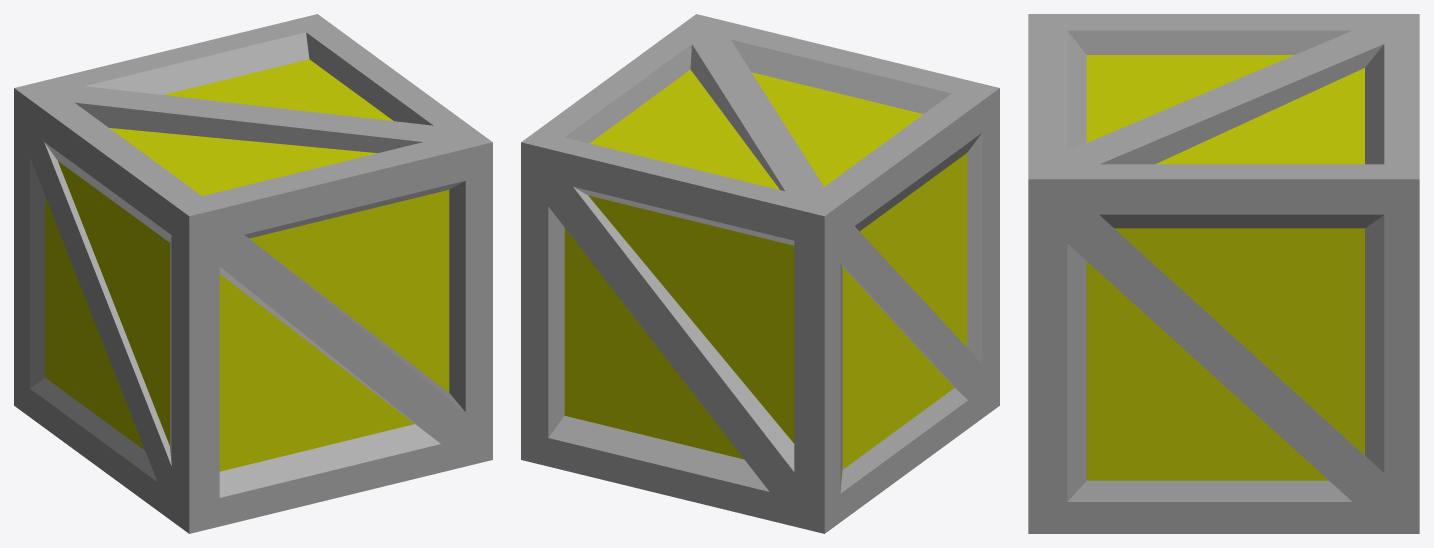
Rendered from Crate.fbx.
The picture shows the model from 3 angles, left to right: view 1: azimuth 30°, elevation 25°; view 2: azimuth 150°, elevation 25°; view 3: azimuth 270°, elevation 25°; orthographic projection. The views are drawn at different scales.
Visible parts, largest first — view 1: Crate; view 2: Crate; view 3: Crate.
Boxes of the visible parts, x1,y1,x2,y2 form: Crate: (14,14,492,533); Crate: (521,14,999,533); Crate: (1028,14,1419,533).
Size of the model in its own units: 0.00494 by 0.00494 by 0.00494.
